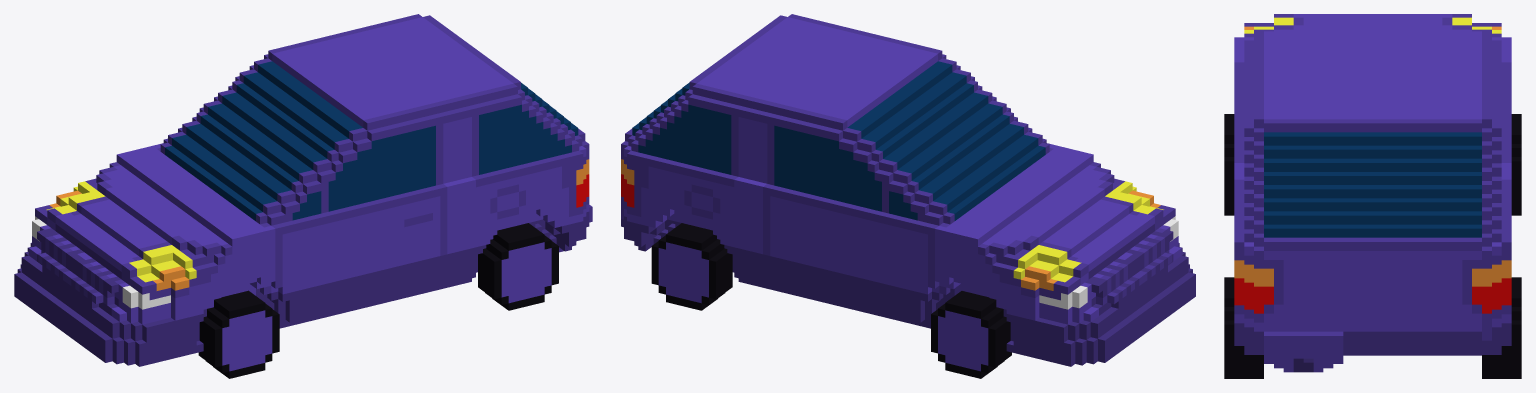
The model's file is car.obj.
3 views of the same model, side by side, from view 1: azimuth 30°, elevation 25°; view 2: azimuth 150°, elevation 25°; view 3: azimuth 270°, elevation 25° (orthographic). The views are drawn at different scales.
Visible parts, largest first — view 1: car; view 2: car; view 3: car.
Part boxes in pixels (left/top/right/bottom): car: left=14, top=14, right=592, bottom=378; car: left=621, top=14, right=1195, bottom=378; car: left=1224, top=14, right=1521, bottom=378.
Bounding box in the file's own units: 68 × 28 × 30.
Materials: 1 (1 with a texture image).
